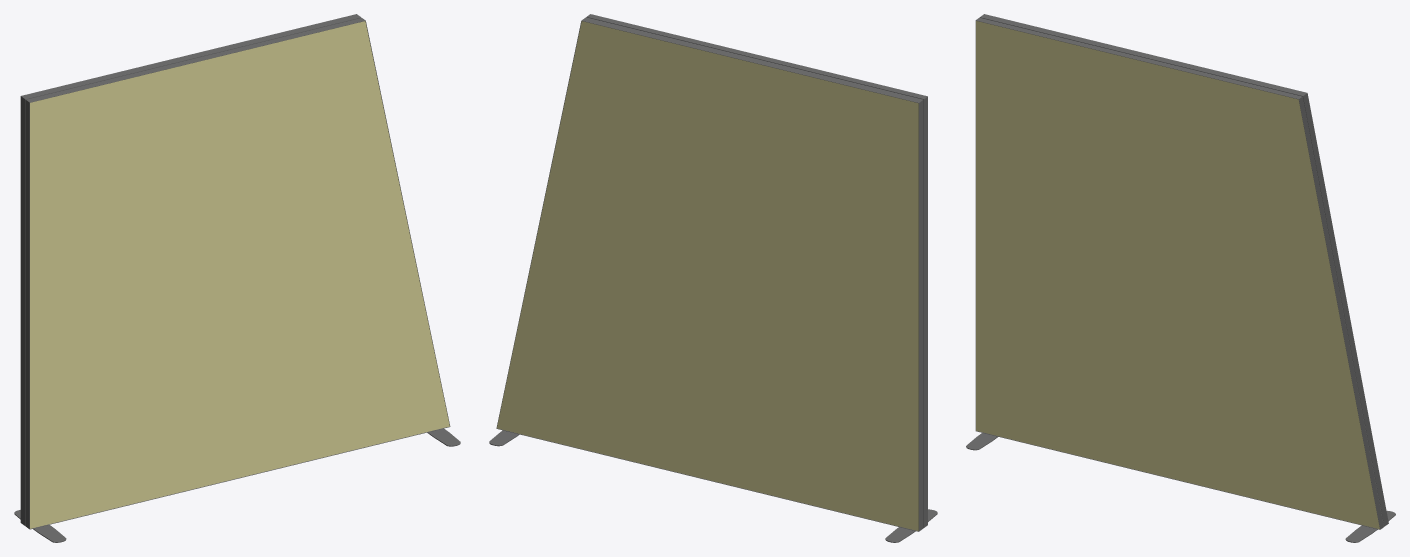
Rendered from 8ft Angled Lightbox.glb.
3 renders of one model, left to right at view 1: azimuth 30°, elevation 25°; view 2: azimuth 150°, elevation 25°; view 3: azimuth 330°, elevation 25°, orthographic. The views are drawn at different scales.
Parts seen in each view (by area): view 1: pCube086.002, toggle_feet_center.025; view 2: pCube086.002, toggle_feet_center.025; view 3: pCube086.002, toggle_feet_center.025.
Part boxes in pixels (x1=…): pCube086.002: x1=20, y1=14, x2=450, y2=529; toggle_feet_center.025: x1=14, y1=428, x2=460, y2=542; pCube086.002: x1=496, y1=14, x2=927, y2=531; toggle_feet_center.025: x1=489, y1=430, x2=937, y2=542; pCube086.002: x1=975, y1=14, x2=1388, y2=529; toggle_feet_center.025: x1=966, y1=433, x2=1395, y2=542.
Size of the model in its own units: 2.44 by 2.38 by 0.4285.
